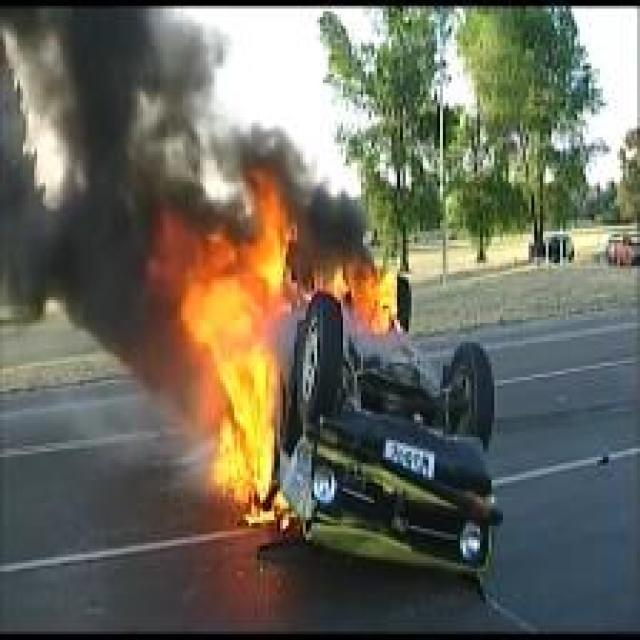Fire: (148, 174, 298, 529), (278, 262, 406, 334)
